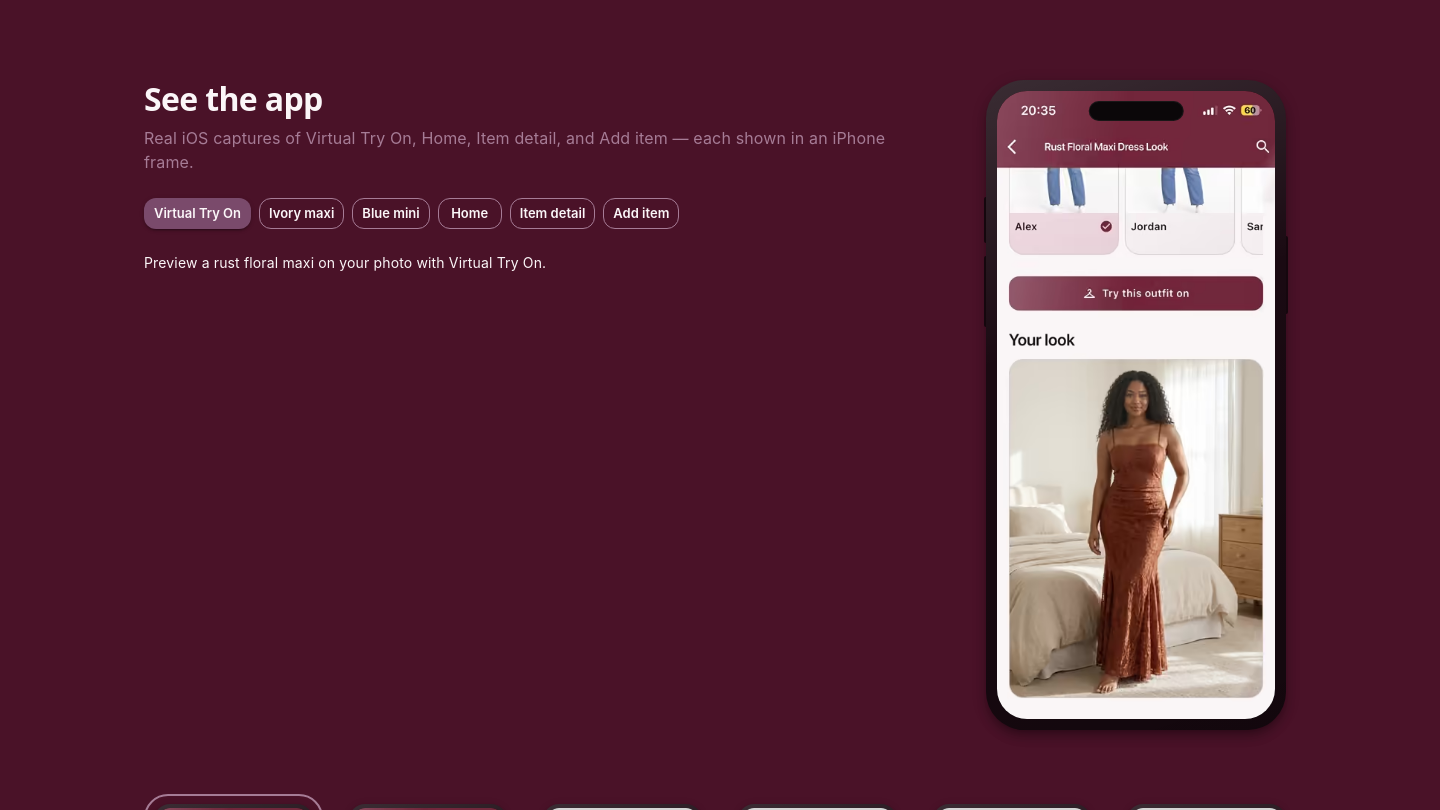
Test case: ScreenshotShowcase › renders labeled slots and updates the featured screenshot
expect the heading "See the app" is shown: met, box [144,77,323,120]
expect the picture named "Pocket Closet Virtual Try On showing a rust floral maxi dress on the user's profile photo" is shown: met, box [997,91,1275,719]
Click the tab with aria-label "Home screenshot".
click(470, 214)  # box [438,198,502,229]
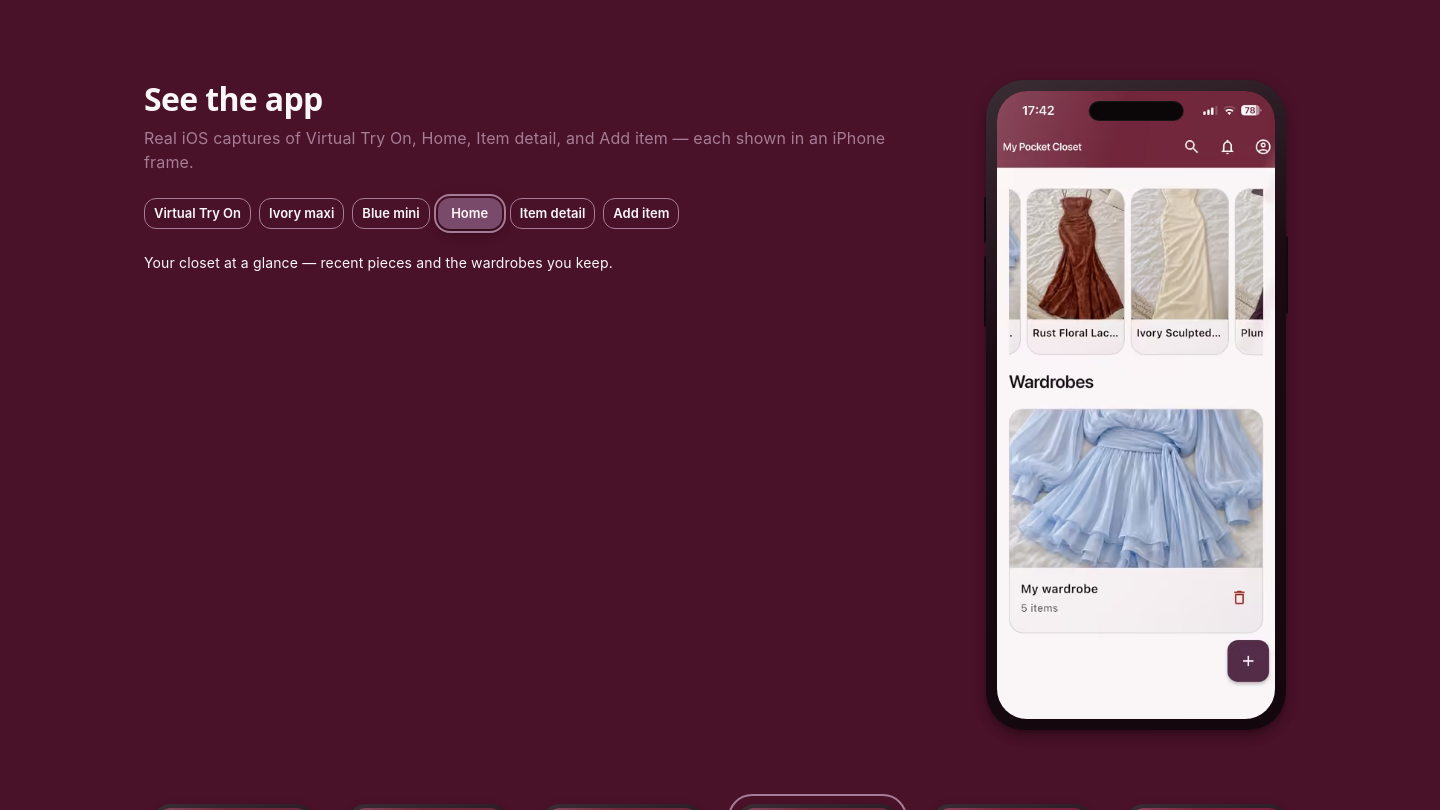
expect the picture named "Pocket Closet home screen titled My Pocket Closet with recent dresses and the My wardrobe collection" is shown: met, box [997,91,1275,719]
